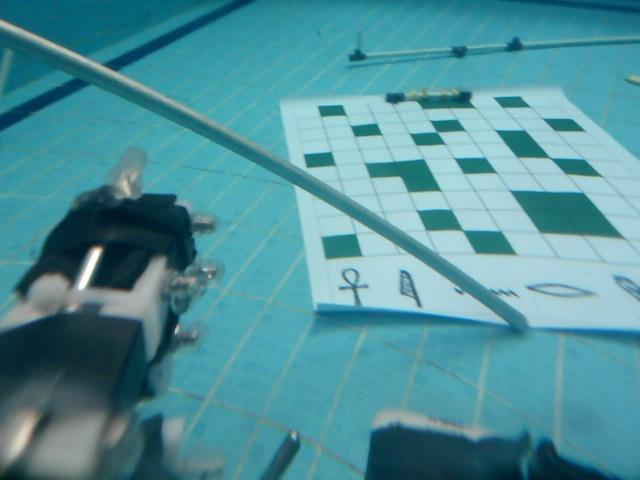Ankh: (335, 266, 369, 310)
Mouth: (521, 279, 597, 302)
Reed: (398, 268, 427, 314)
Water: (455, 284, 519, 301)
